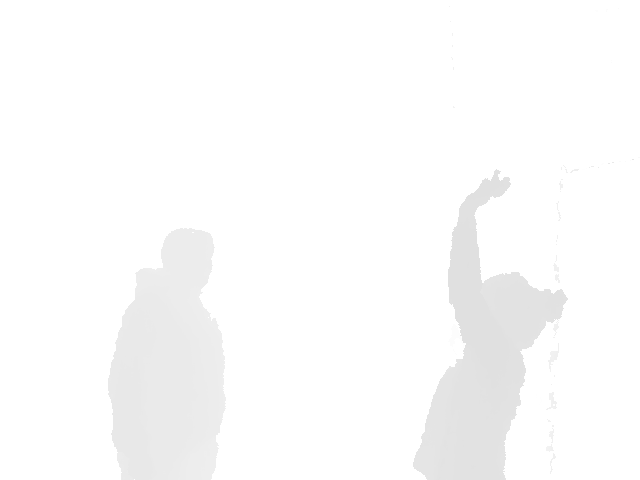hand: (473, 170, 512, 211)
head: (480, 272, 544, 350), (161, 229, 213, 301)
person: (412, 170, 569, 480), (107, 229, 227, 480)
